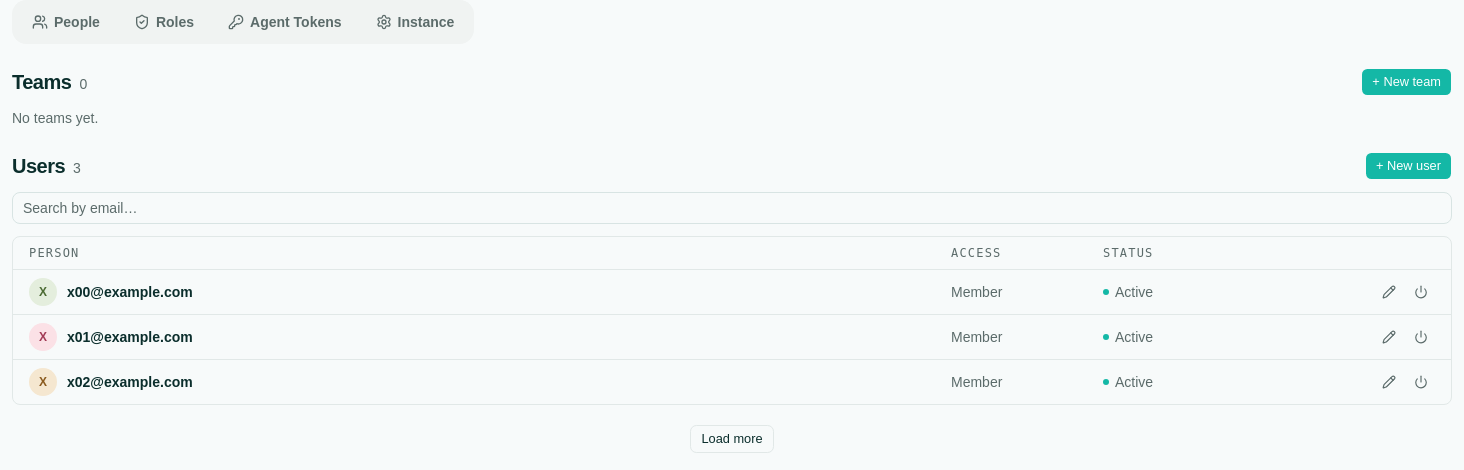
Test case: PeoplePage › Users › loads a first page of users from the server, with a button to load more
Check: the text "x00@example.com" is shown, box [67,282,193,302]
Check: the text "x99@example.com" is not shown
What coordinates should you click on to do the following:
click the button "Load more"
I would click on:
 (732, 439)
Its box is [690,425,774,453].
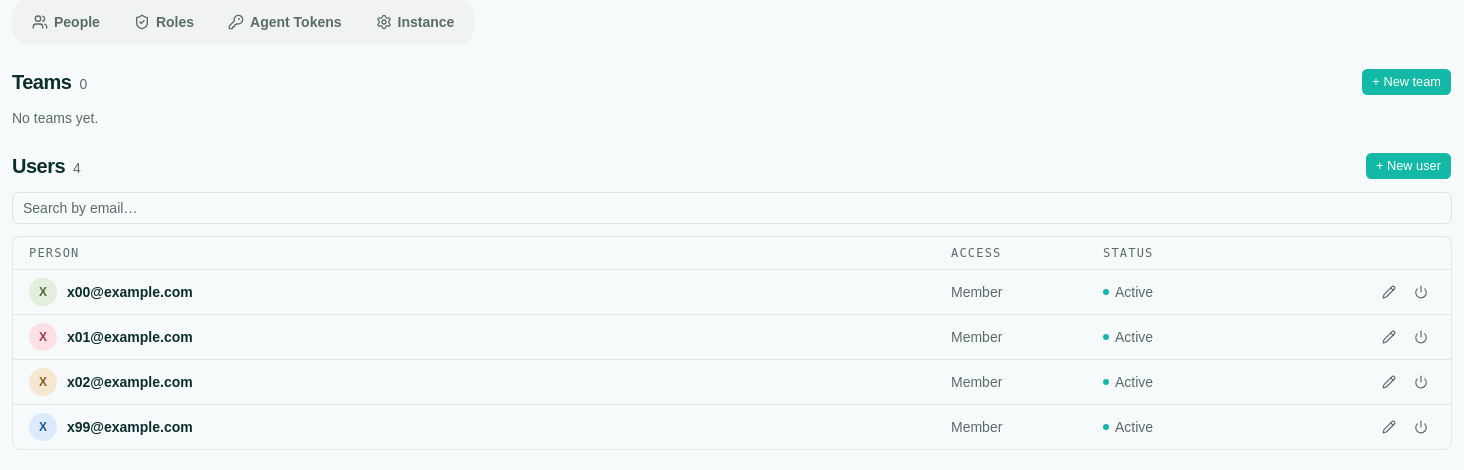
Check: the text "x99@example.com" is shown, box [67,417,193,437]
